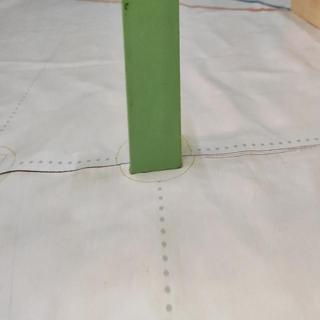greenbox: (121, 3, 186, 174)
